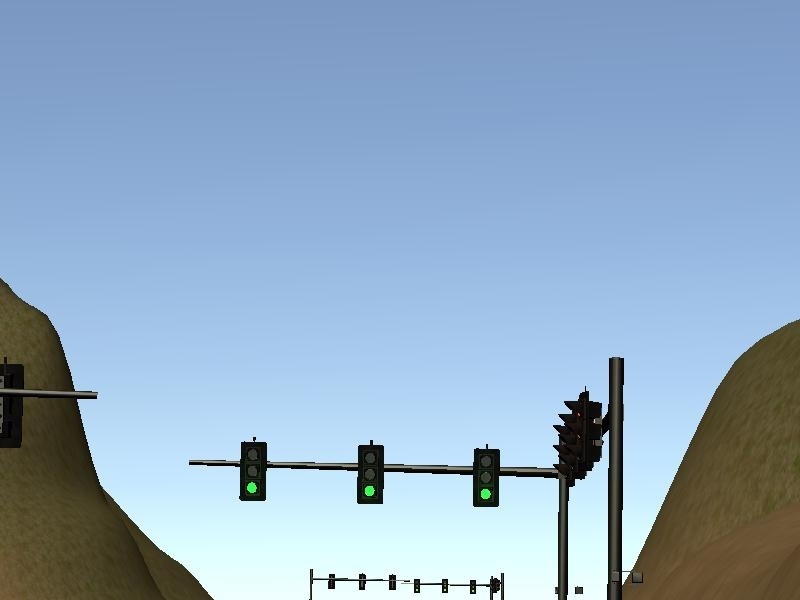GREEN: (354, 443, 384, 506), (471, 448, 500, 508), (239, 442, 265, 502)
